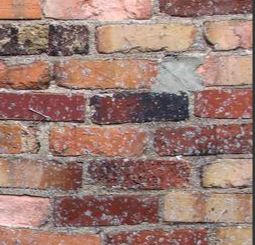brick: (47, 125, 149, 158), (53, 193, 159, 224), (56, 59, 162, 89), (154, 126, 255, 157), (87, 160, 191, 190), (92, 92, 190, 123), (162, 193, 255, 224), (94, 25, 194, 51), (1, 92, 87, 121), (1, 160, 85, 188), (44, 1, 151, 18), (193, 90, 255, 119), (159, 1, 255, 15), (1, 1, 43, 20)
